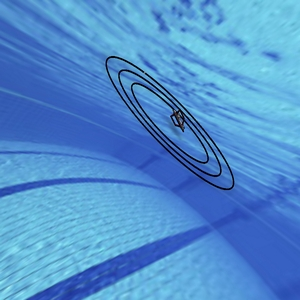circle: (91, 40, 248, 199)
submarine: (160, 102, 195, 133)
